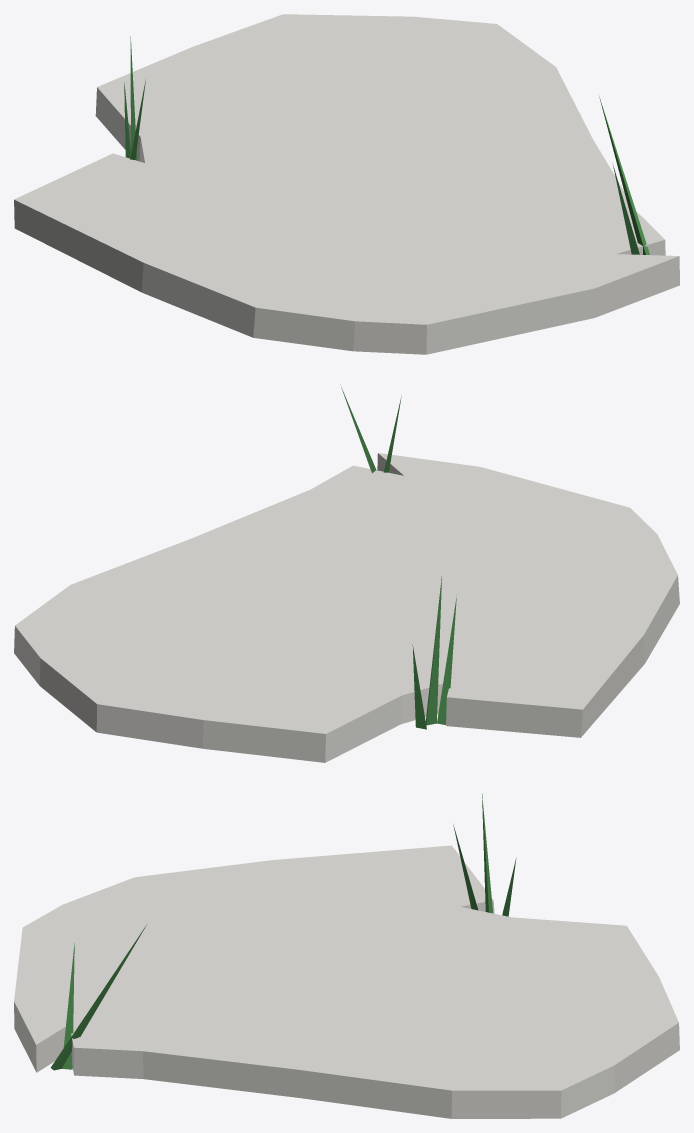
File: stone-type-002.obj
3 renders of one model, top to bottom at view 1: azimuth 30°, elevation 25°; view 2: azimuth 150°, elevation 25°; view 3: azimuth 270°, elevation 25°, orthographic. The views are drawn at different scales.
Visible parts, largest first — view 1: stone-type-002; view 2: stone-type-002; view 3: stone-type-002.
Part boxes in pixels (x1,y1,x2,y2): stone-type-002: (14,14,679,354); stone-type-002: (14,384,679,762); stone-type-002: (14,793,679,1118).
Bounding box in the file's own units: 0.3876 × 0.1083 × 0.4436.
